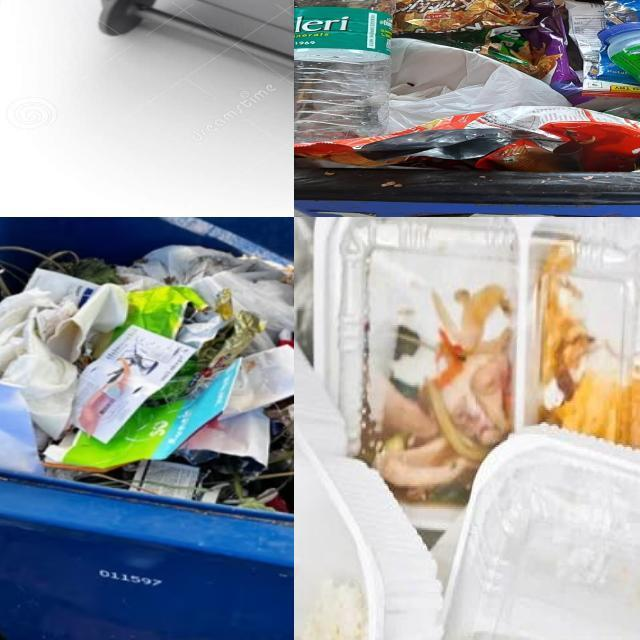Garbage: (294, 217, 640, 640), (0, 245, 294, 512), (294, 0, 640, 172)
Plastic_Bag: (120, 245, 294, 335), (221, 346, 294, 418), (180, 409, 270, 467)
Plastic_bottle: (294, 0, 394, 143), (601, 21, 640, 82)
Plastic_wraper: (294, 105, 640, 172), (397, 0, 591, 105), (59, 360, 240, 470), (148, 311, 263, 405), (565, 2, 640, 98), (112, 285, 206, 340), (394, 0, 536, 33), (608, 0, 640, 21)
contaminated_waste: (294, 217, 640, 640)
